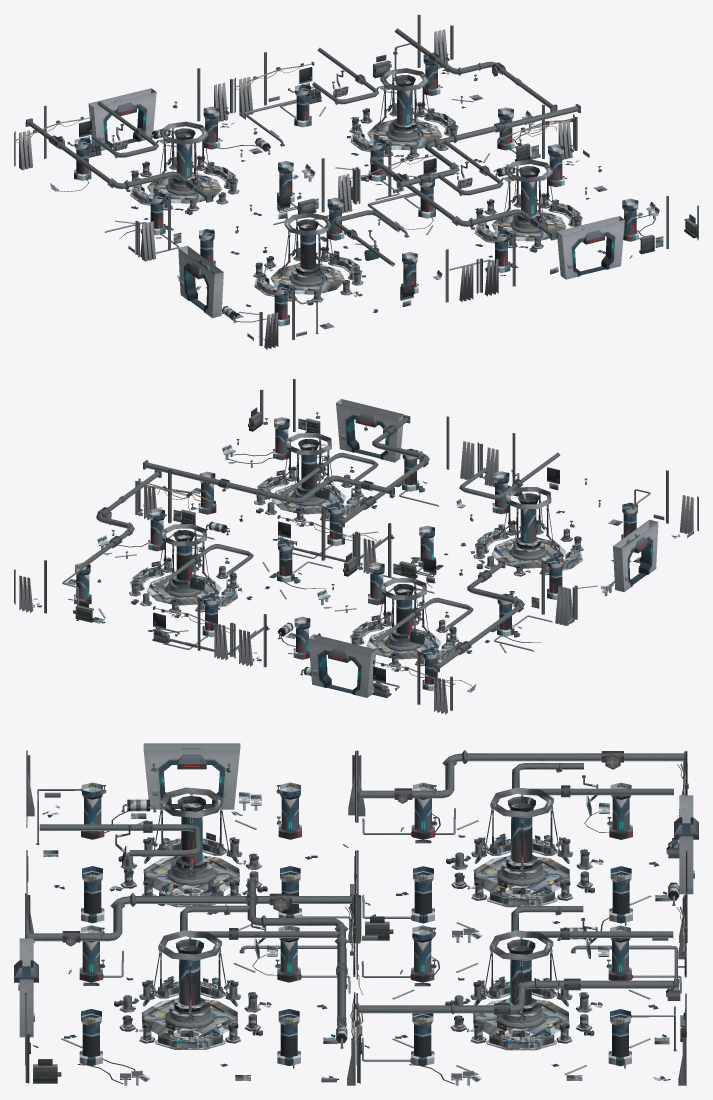
File: Combined_Mesh_root_scene__9_f65a131e__ZombiesII_laboratory_04_d_1b2a1172_c1f257_part001.obj
3 views of the same model, one above another, from view 1: azimuth 30°, elevation 25°; view 2: azimuth 150°, elevation 25°; view 3: azimuth 270°, elevation 25° (orthographic). The views are drawn at different scales.
Bounding box in the file's own units: 83.04 × 10.34 × 83.14.
Materials: 538 (538 with a texture image).
